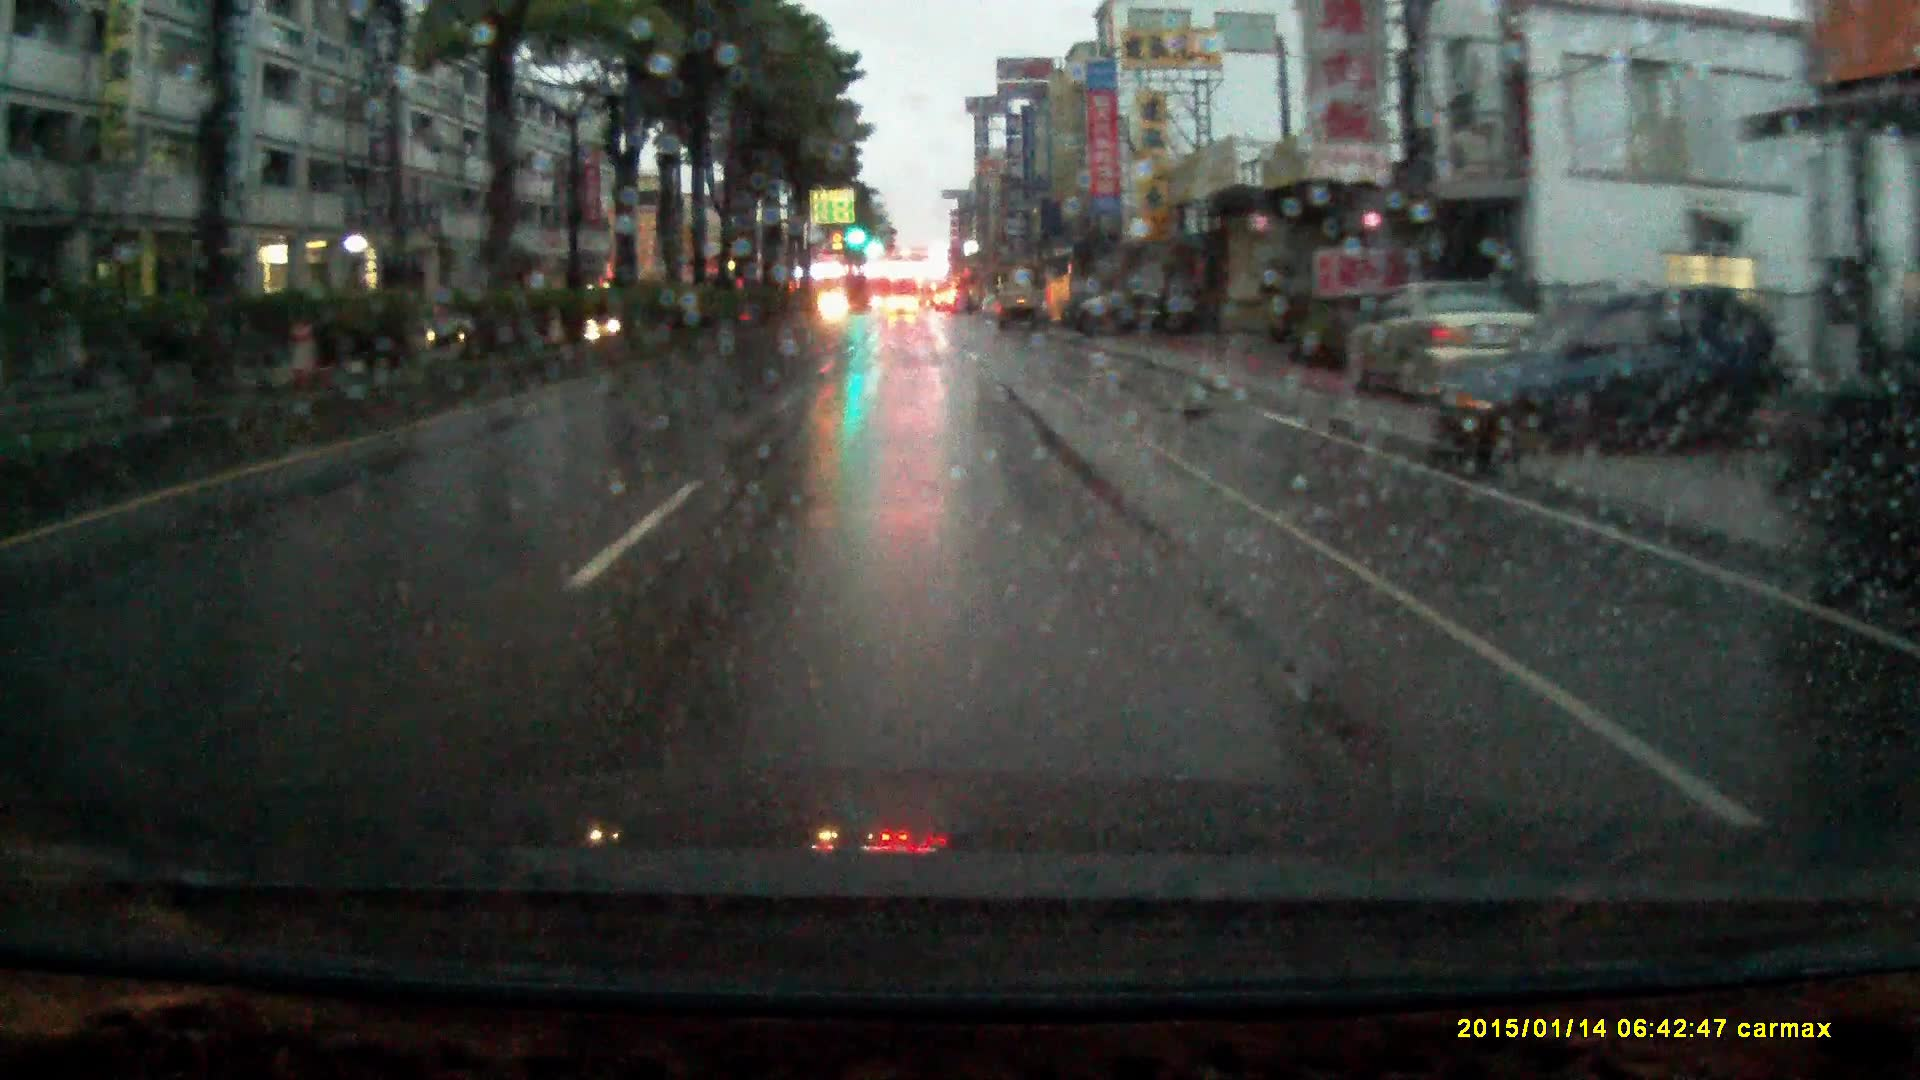vehicle: (1432, 287, 1818, 465), (1335, 284, 1549, 396), (1062, 291, 1218, 338), (994, 285, 1044, 334), (886, 295, 919, 319)
